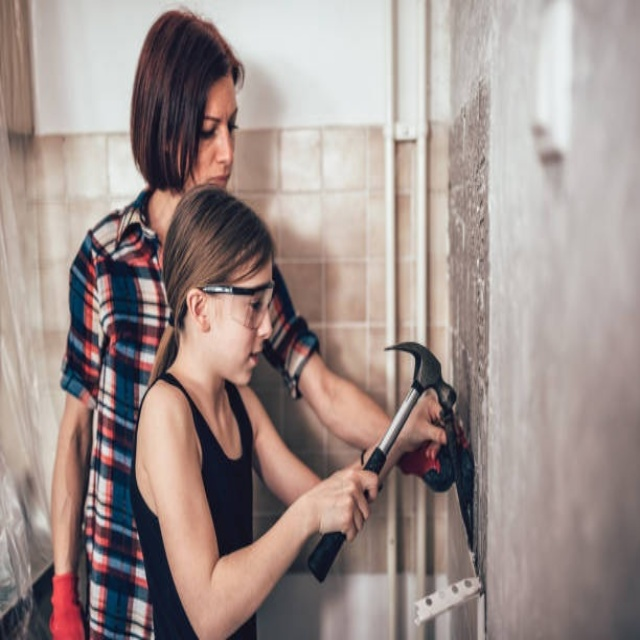Gafas: (196, 280, 276, 330)
Guantes: (43, 555, 88, 637)
Sin_gafas: (199, 99, 241, 143)
Sin_guantes: (311, 461, 380, 540), (394, 387, 454, 460)
Sin_mascara: (230, 334, 264, 384), (205, 166, 232, 191)
